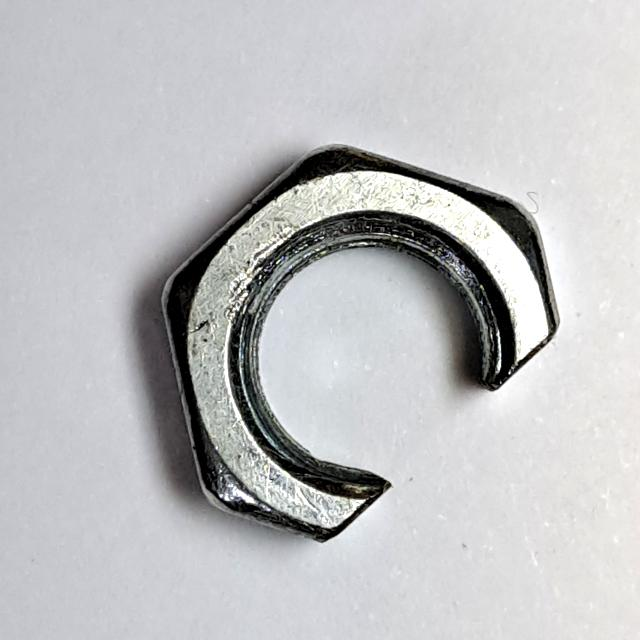Fracture: (149, 130, 572, 562)
